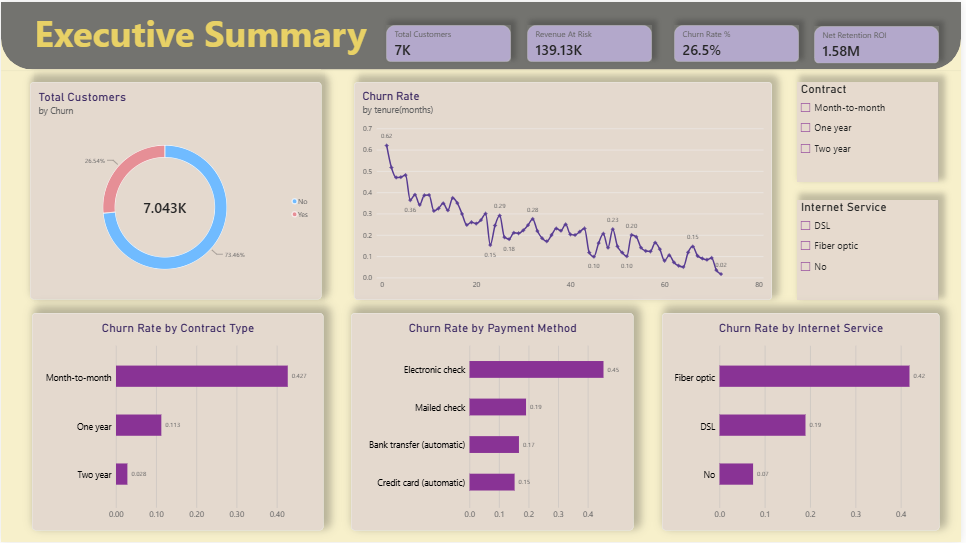

The page's visual inventory and layout, read from the dashboard file:
{"tool":"powerbi","page":{"name":"Executive Summary","canvas":[1920,1080],"ordinal":0},"visuals":[{"type":"shape","box":[0,0,1920,135],"z":0,"group":"g1"},{"type":"cardVisual","fields":{"Data":["_Measures.Revenue At Risk"]},"box":[1052.5,45,250,74],"z":1000,"group":"g1"},{"type":"cardVisual","fields":{"Data":["_Measures.Net Retention ROI"]},"box":[1625,47.5,250,75],"z":2000,"group":"g1"},{"type":"cardVisual","fields":{"Data":["_Measures.Churn Rate %"]},"box":[1345,45,250,74],"z":3000,"group":"g1"},{"type":"cardVisual","fields":{"Data":["_Measures.Total Customers"]},"box":[770,45,250,74.1],"z":4000,"group":"g1"},{"type":"donutChart","fields":{"Category":["customer_churn.Churn"],"Y":["_Measures.Total Customers"]},"box":[57.5,160,582.5,435],"z":5000},{"type":"clusteredBarChart","title":"Churn Rate by Contract Type","fields":{"Category":["customer_churn.Contract"],"Y":["_Measures.Churn Rate"]},"box":[62.5,622.5,582.5,435],"z":6000},{"type":"clusteredBarChart","title":"Churn Rate by Internet Service","fields":{"Category":["customer_churn.InternetService"],"Y":["_Measures.Churn Rate"]},"box":[1322.5,622.5,555,435],"z":7000},{"type":"clusteredBarChart","title":"Churn Rate by Payment Method","fields":{"Category":["customer_churn.PaymentMethod"],"Y":["_Measures.Churn Rate"]},"box":[700,622.5,565,435],"z":8000},{"type":"lineChart","title":"Churn Rate","fields":{"Category":["customer_churn.tenure"],"Y":["_Measures.Churn Rate"]},"box":[705.2,159.8,836.5,436.2],"z":9000},{"type":"slicer","fields":{"Values":["customer_churn.Contract"]},"box":[1592.5,160,282.5,200],"z":10000},{"type":"slicer","fields":{"Values":["customer_churn.InternetService"]},"box":[1592.5,395,282.5,200],"z":11000},{"type":"textbox","box":[57.5,12.5,682.5,122.5],"z":12000,"group":"g1"},{"type":"group","id":"g1","title":"Group 1","box":[0,0,1920,135],"z":12001}]}

Visuals, with their boxes in screenshot pixels (x1, y1, x2, y2), scaled from the page's 1920x1080 canvas onto the 966x543 screenshot:
shape: BBox(0, 0, 965, 68)
cardVisual - _Measures.Revenue At Risk: BBox(530, 23, 655, 60)
cardVisual - _Measures.Net Retention ROI: BBox(818, 24, 943, 62)
cardVisual - _Measures.Churn Rate %: BBox(677, 23, 802, 60)
cardVisual - _Measures.Total Customers: BBox(387, 23, 513, 60)
donutChart - customer_churn.Churn x _Measures.Total Customers: BBox(29, 80, 322, 299)
"Churn Rate by Contract Type" clusteredBarChart: BBox(31, 313, 325, 532)
"Churn Rate by Internet Service" clusteredBarChart: BBox(665, 313, 945, 532)
"Churn Rate by Payment Method" clusteredBarChart: BBox(352, 313, 636, 532)
"Churn Rate" lineChart: BBox(355, 80, 776, 300)
slicer - customer_churn.Contract: BBox(801, 80, 943, 181)
slicer - customer_churn.InternetService: BBox(801, 199, 943, 299)
textbox: BBox(29, 6, 372, 68)
"Group 1" group: BBox(0, 0, 965, 68)
